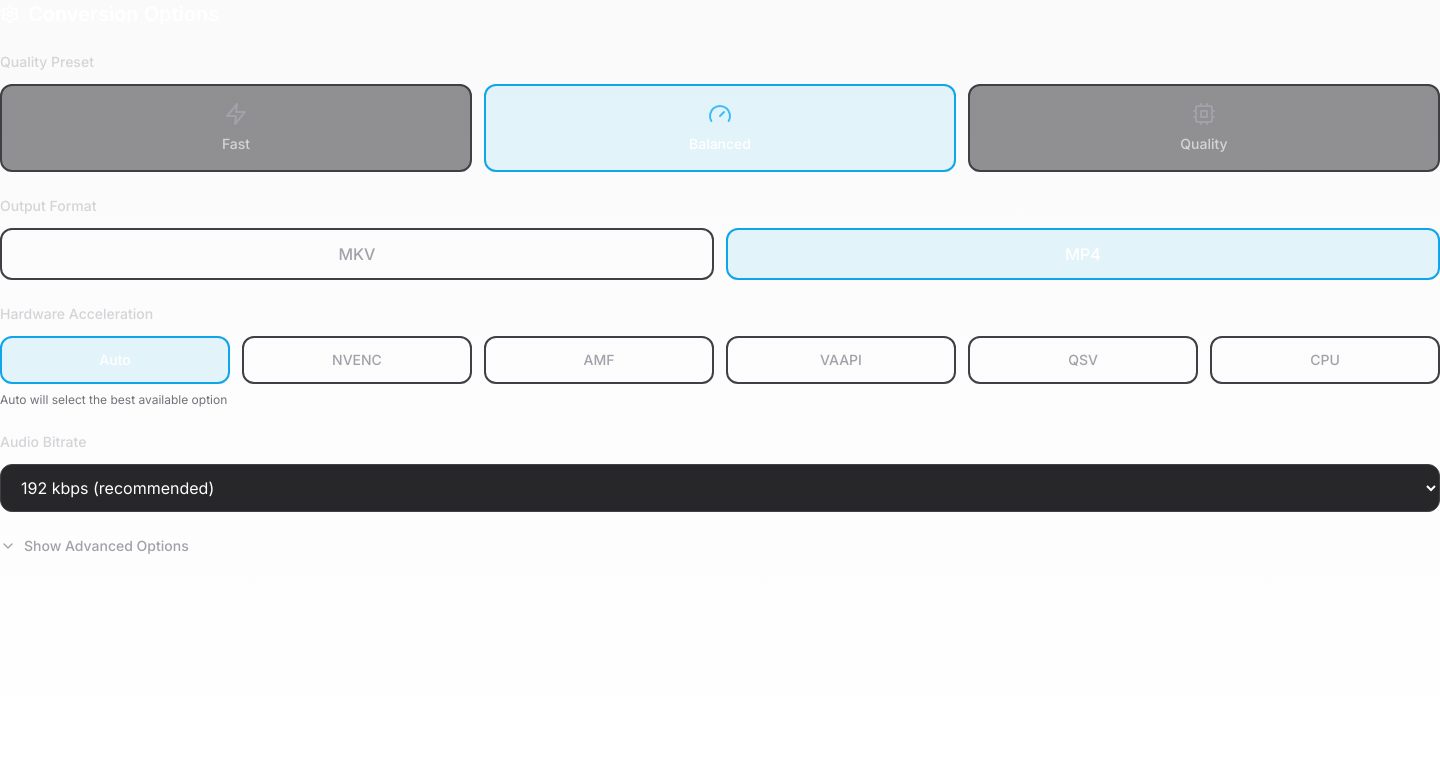
Test: ConversionOptions › toggles advanced options
// Click to show advanced options
Click the button "Show Advanced Options" at [94, 546], box [0,536,189,556]
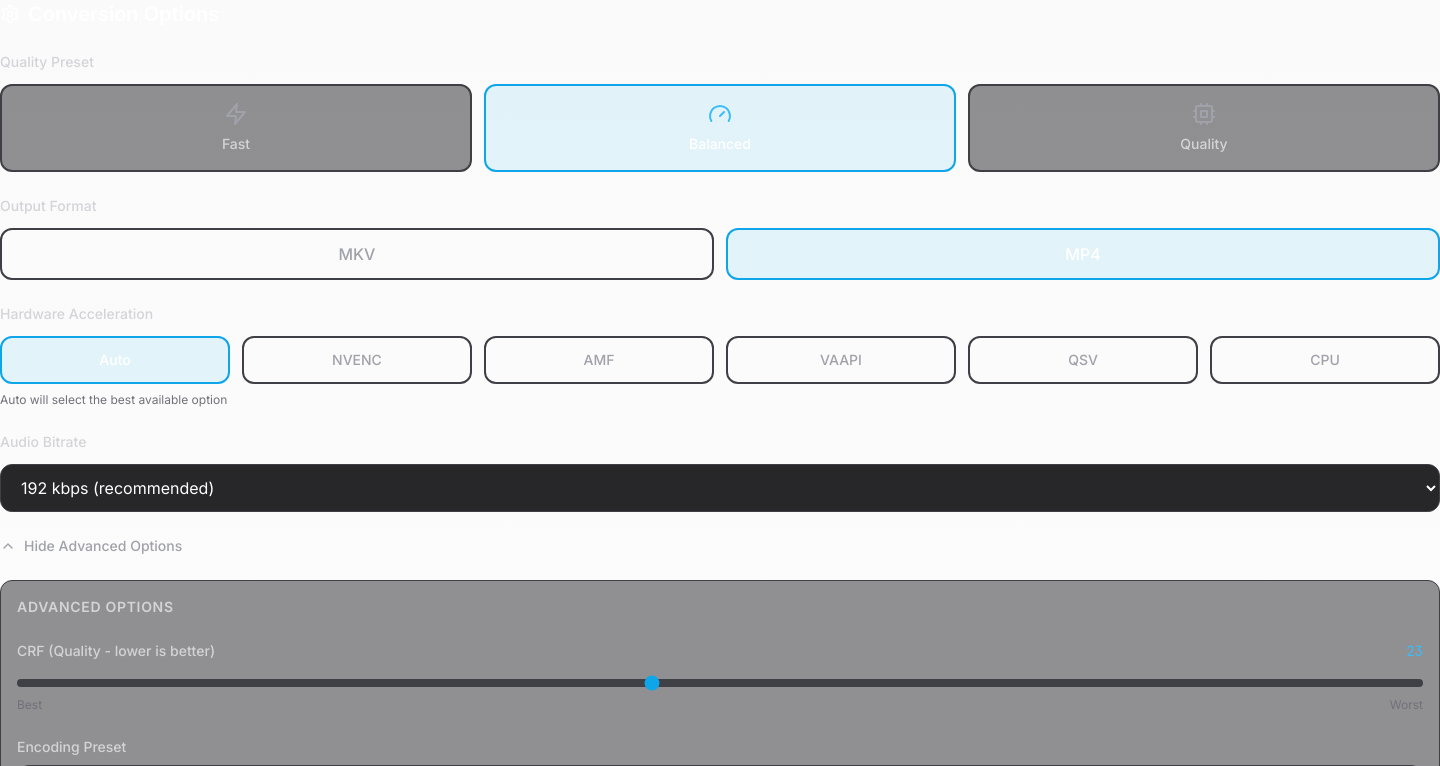
Expected: the text "Hide Advanced Options" is shown, [24,536,182,556]
